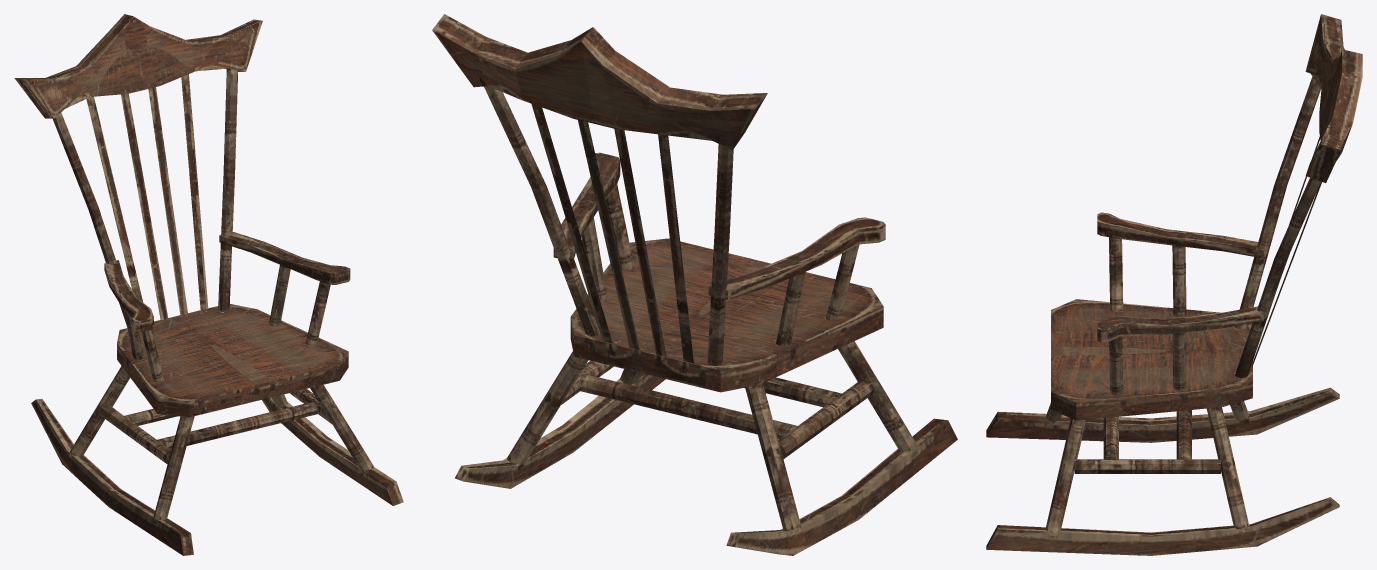
File: ROCKING CHAIR.fbx
3 renders of one model, left to right at view 1: azimuth 30°, elevation 25°; view 2: azimuth 150°, elevation 25°; view 3: azimuth 270°, elevation 25°, orthographic. The views are drawn at different scales.
Parts seen in each view (by area): view 1: CHAIR 1; view 2: CHAIR 1; view 3: CHAIR 1.
Boxes of the visible parts, x1,y1,x2,y2 form: CHAIR 1: (14,14,403,555); CHAIR 1: (432,14,957,555); CHAIR 1: (986,14,1362,555).
Size of the model in its own units: 318 by 510 by 388.
